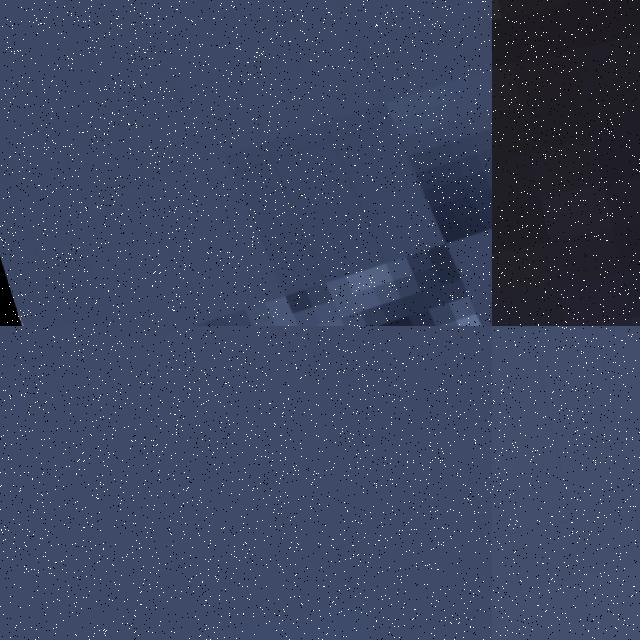drone: (0, 0, 492, 326)
